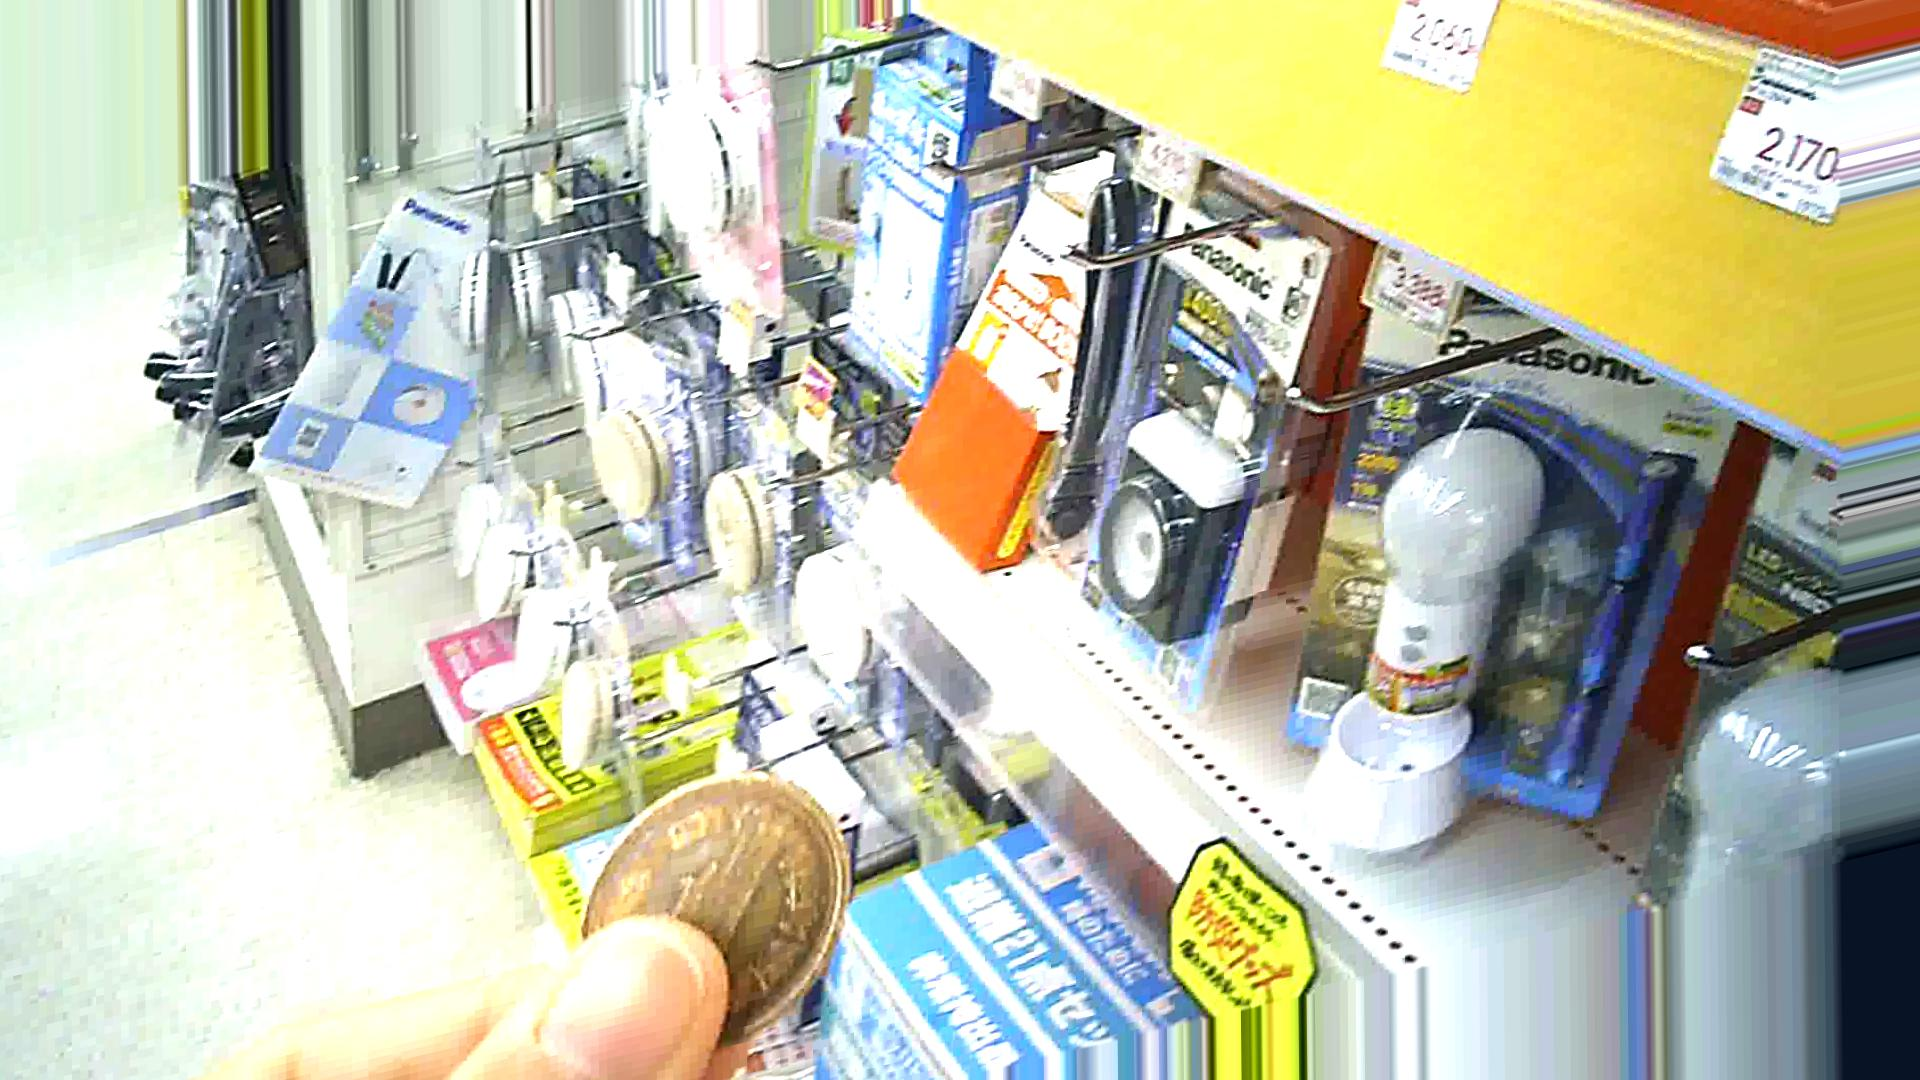10 Yen: (534, 779, 855, 1043)
